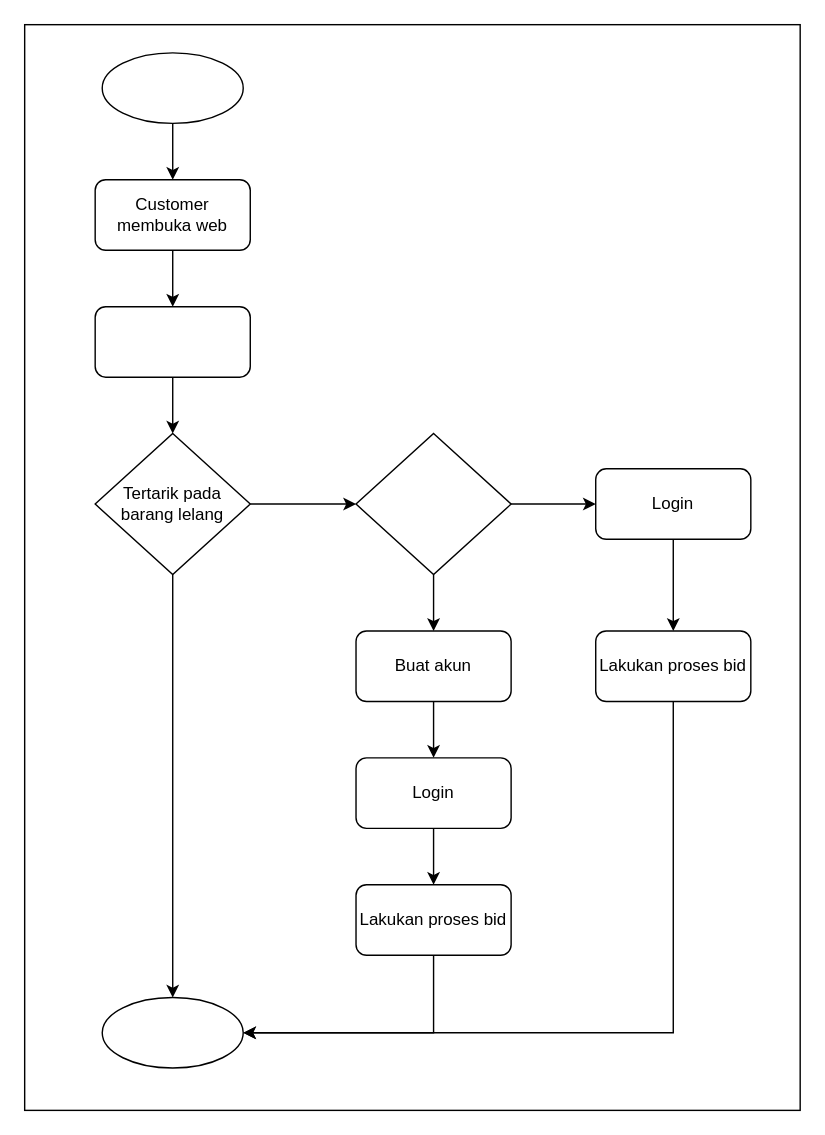
Image size: 825x1135. Some labels were removed from this diagram. Here are the shapes that lost their labels. From the top down, the box of each, then its label:
(101, 51, 243, 123): Mulai
(94, 305, 250, 377): Melihat barang lelang
(355, 432, 511, 575): Punya akun?
(101, 996, 243, 1068): End
